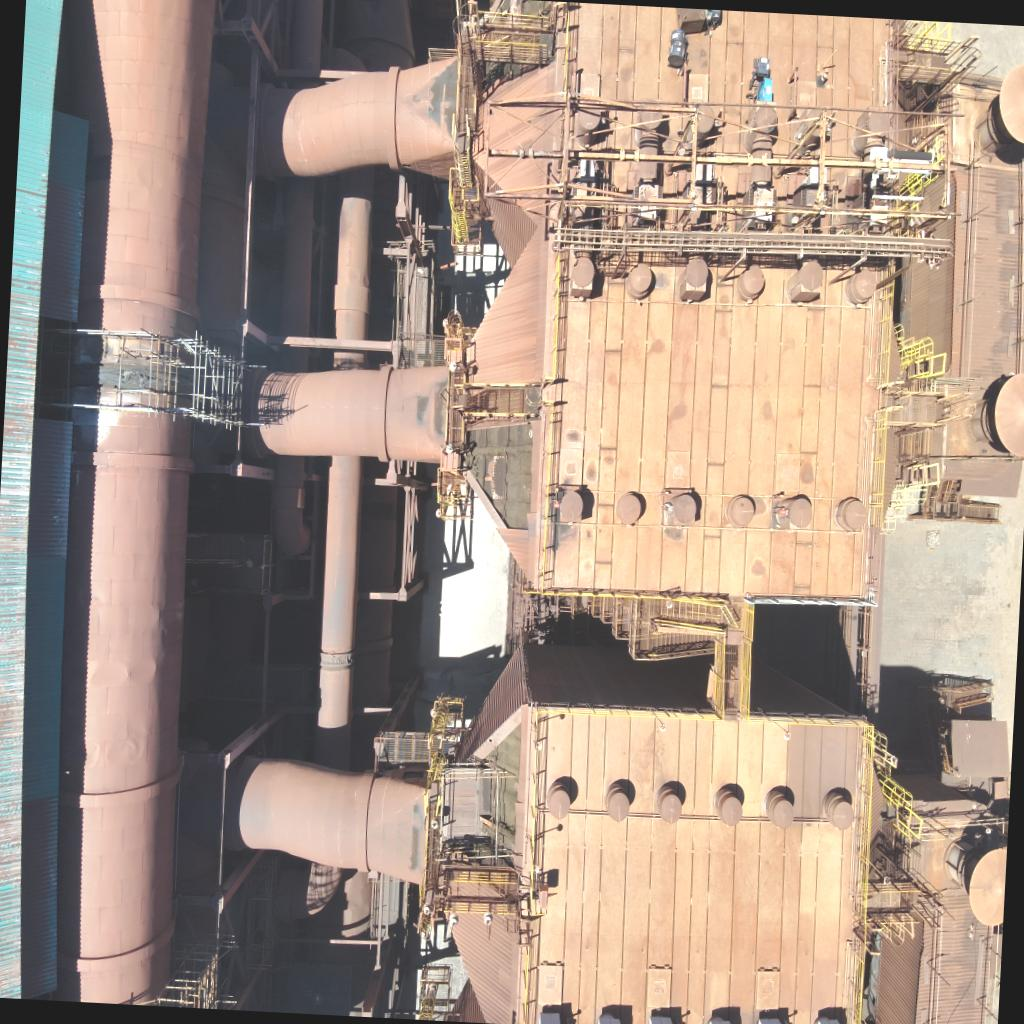Failures: (458, 424, 536, 534), (474, 715, 524, 866), (68, 357, 178, 400)
